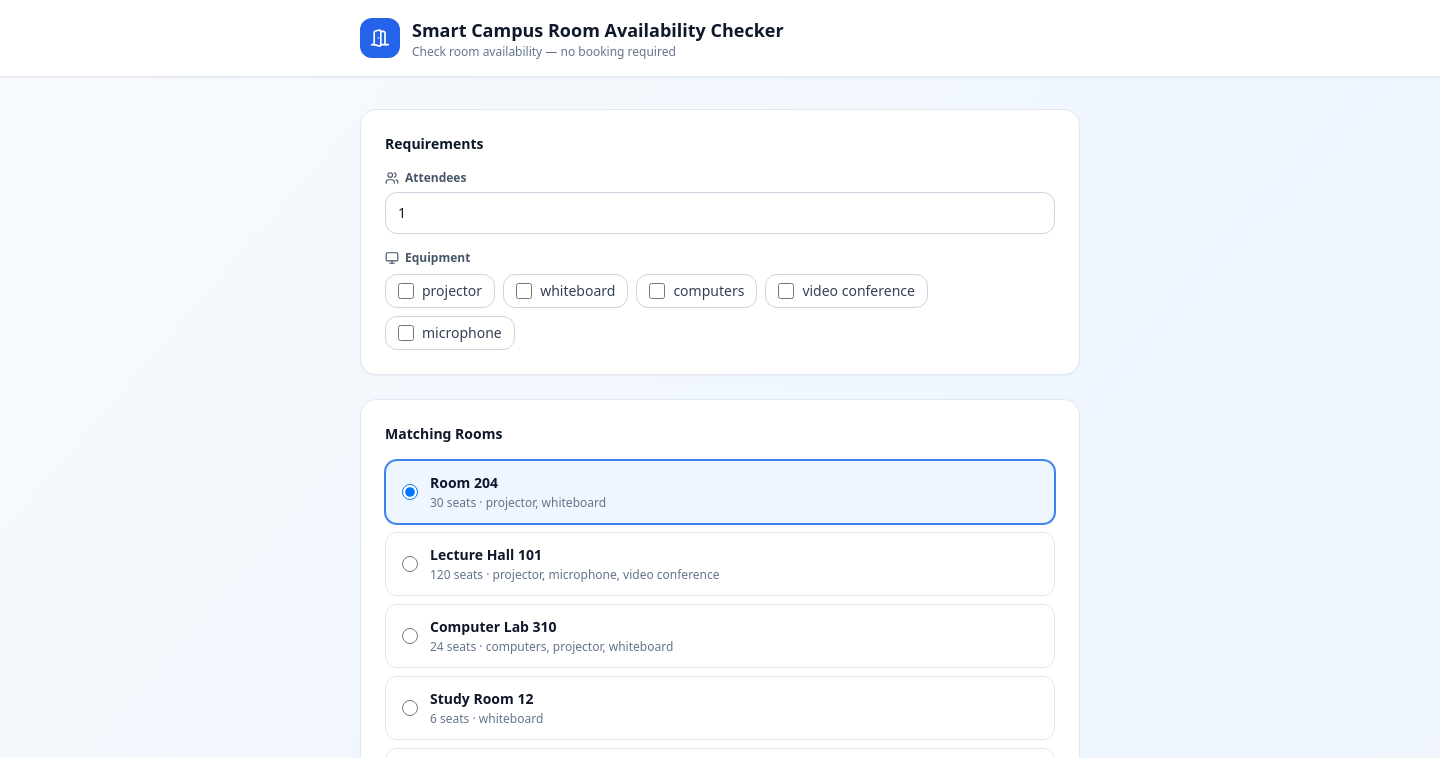
Test case: App UI — room catalog and filtering › attendees "0" shows the alert "Attendees must be at least 1."
The width and height of the screenshot is (1440, 758).
Step 1. Type "0" into the number field labelled "Attendees" → (720, 213), box [385,192,1055,234]
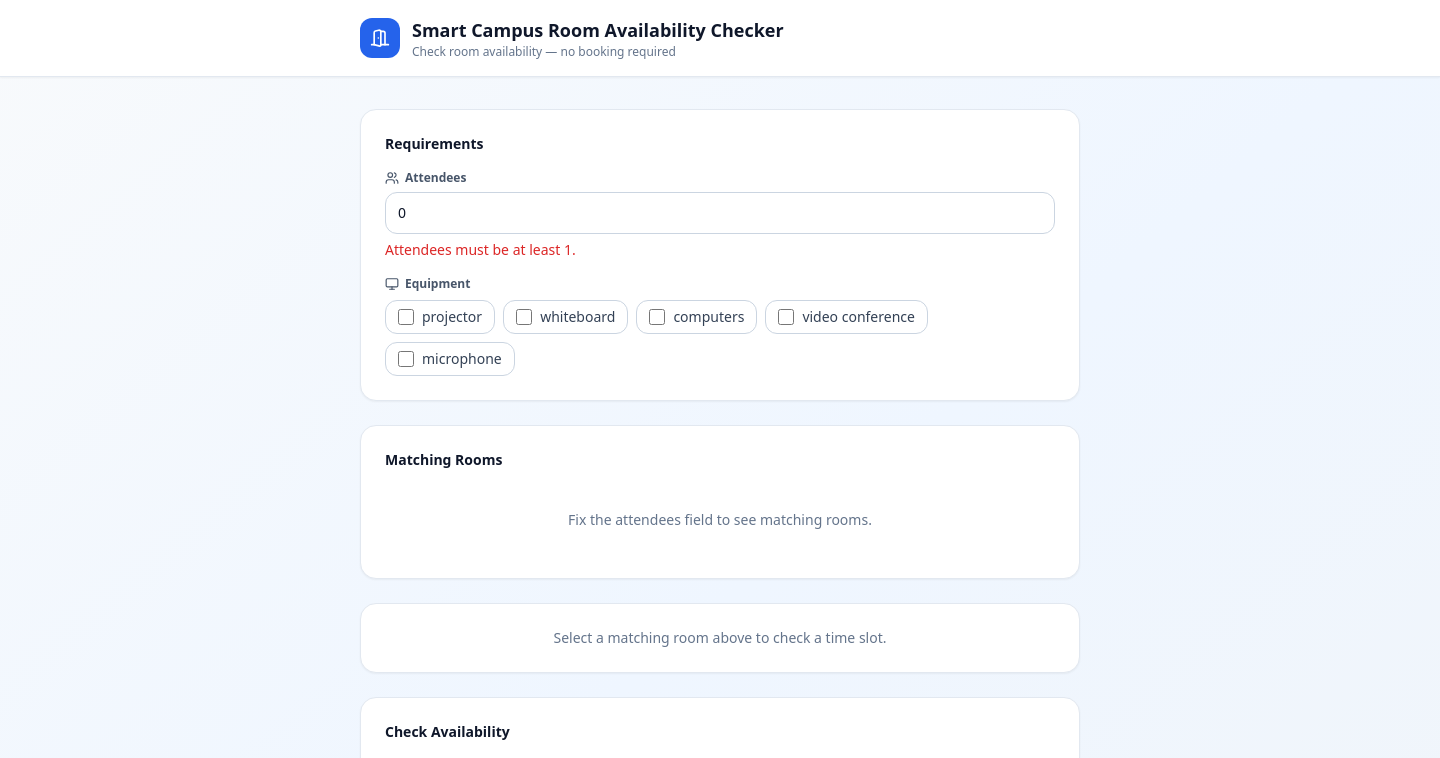
Now the message reads "Attendees must be at least 1.", box [385,240,576,259]
